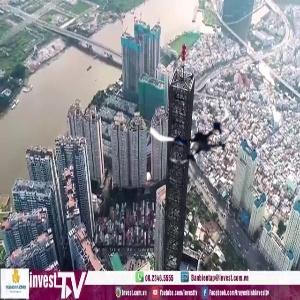drone: (160, 95, 242, 177)
